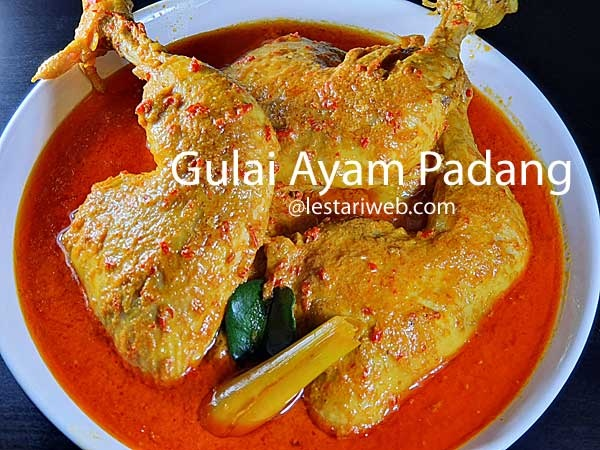gulai_ayam: (12, 23, 581, 450)
